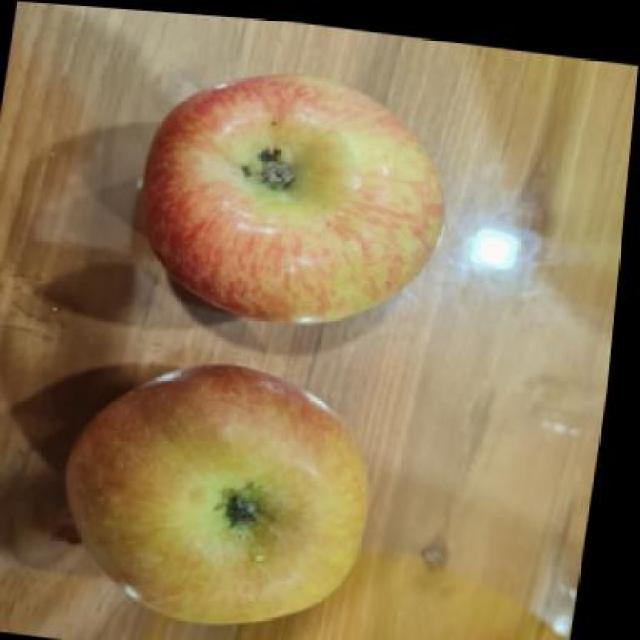Fresh Apple: (54, 364, 380, 624), (128, 72, 438, 326)
